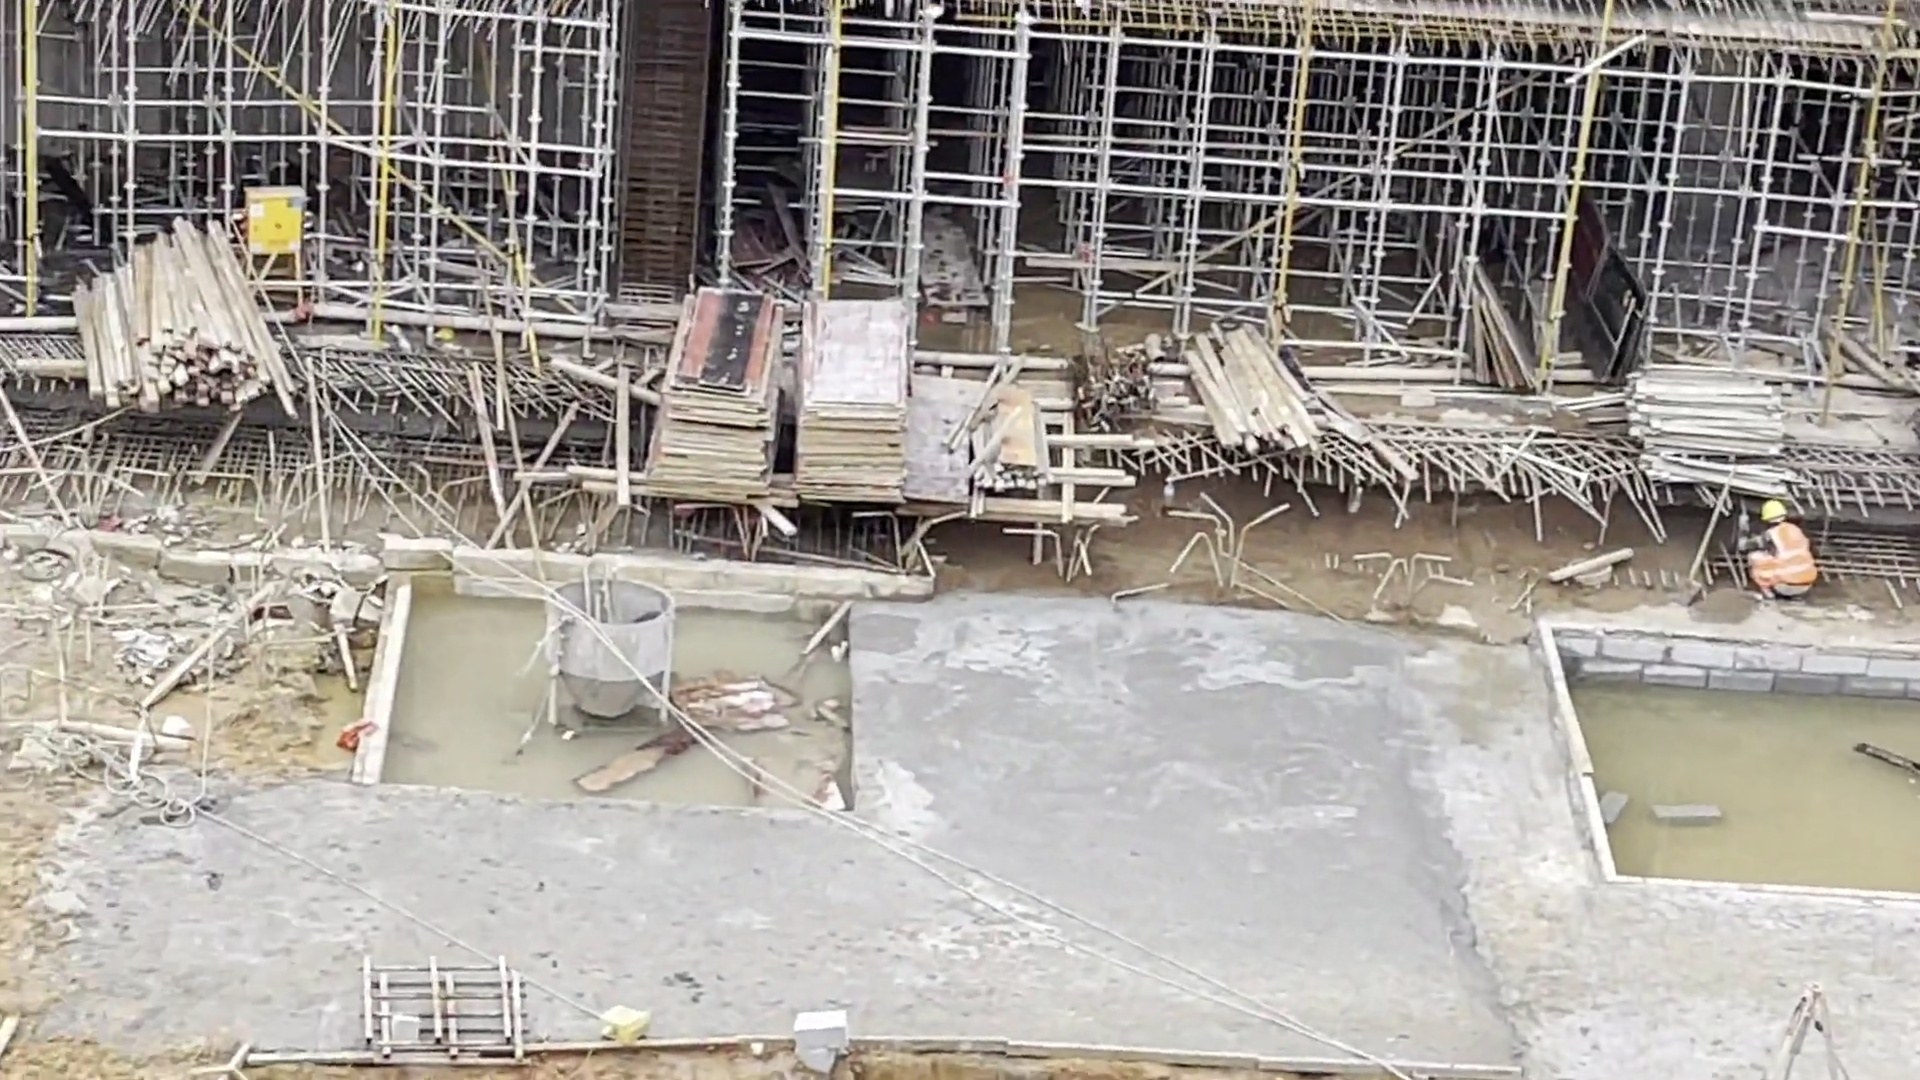board: (651, 286, 917, 510)
ebox: (233, 177, 312, 256)
helmet: (1767, 500, 1786, 519)
person: (1738, 501, 1825, 605)
vest: (1753, 531, 1823, 594)
wood: (76, 230, 295, 409), (1635, 351, 1794, 499), (1186, 319, 1331, 450)
